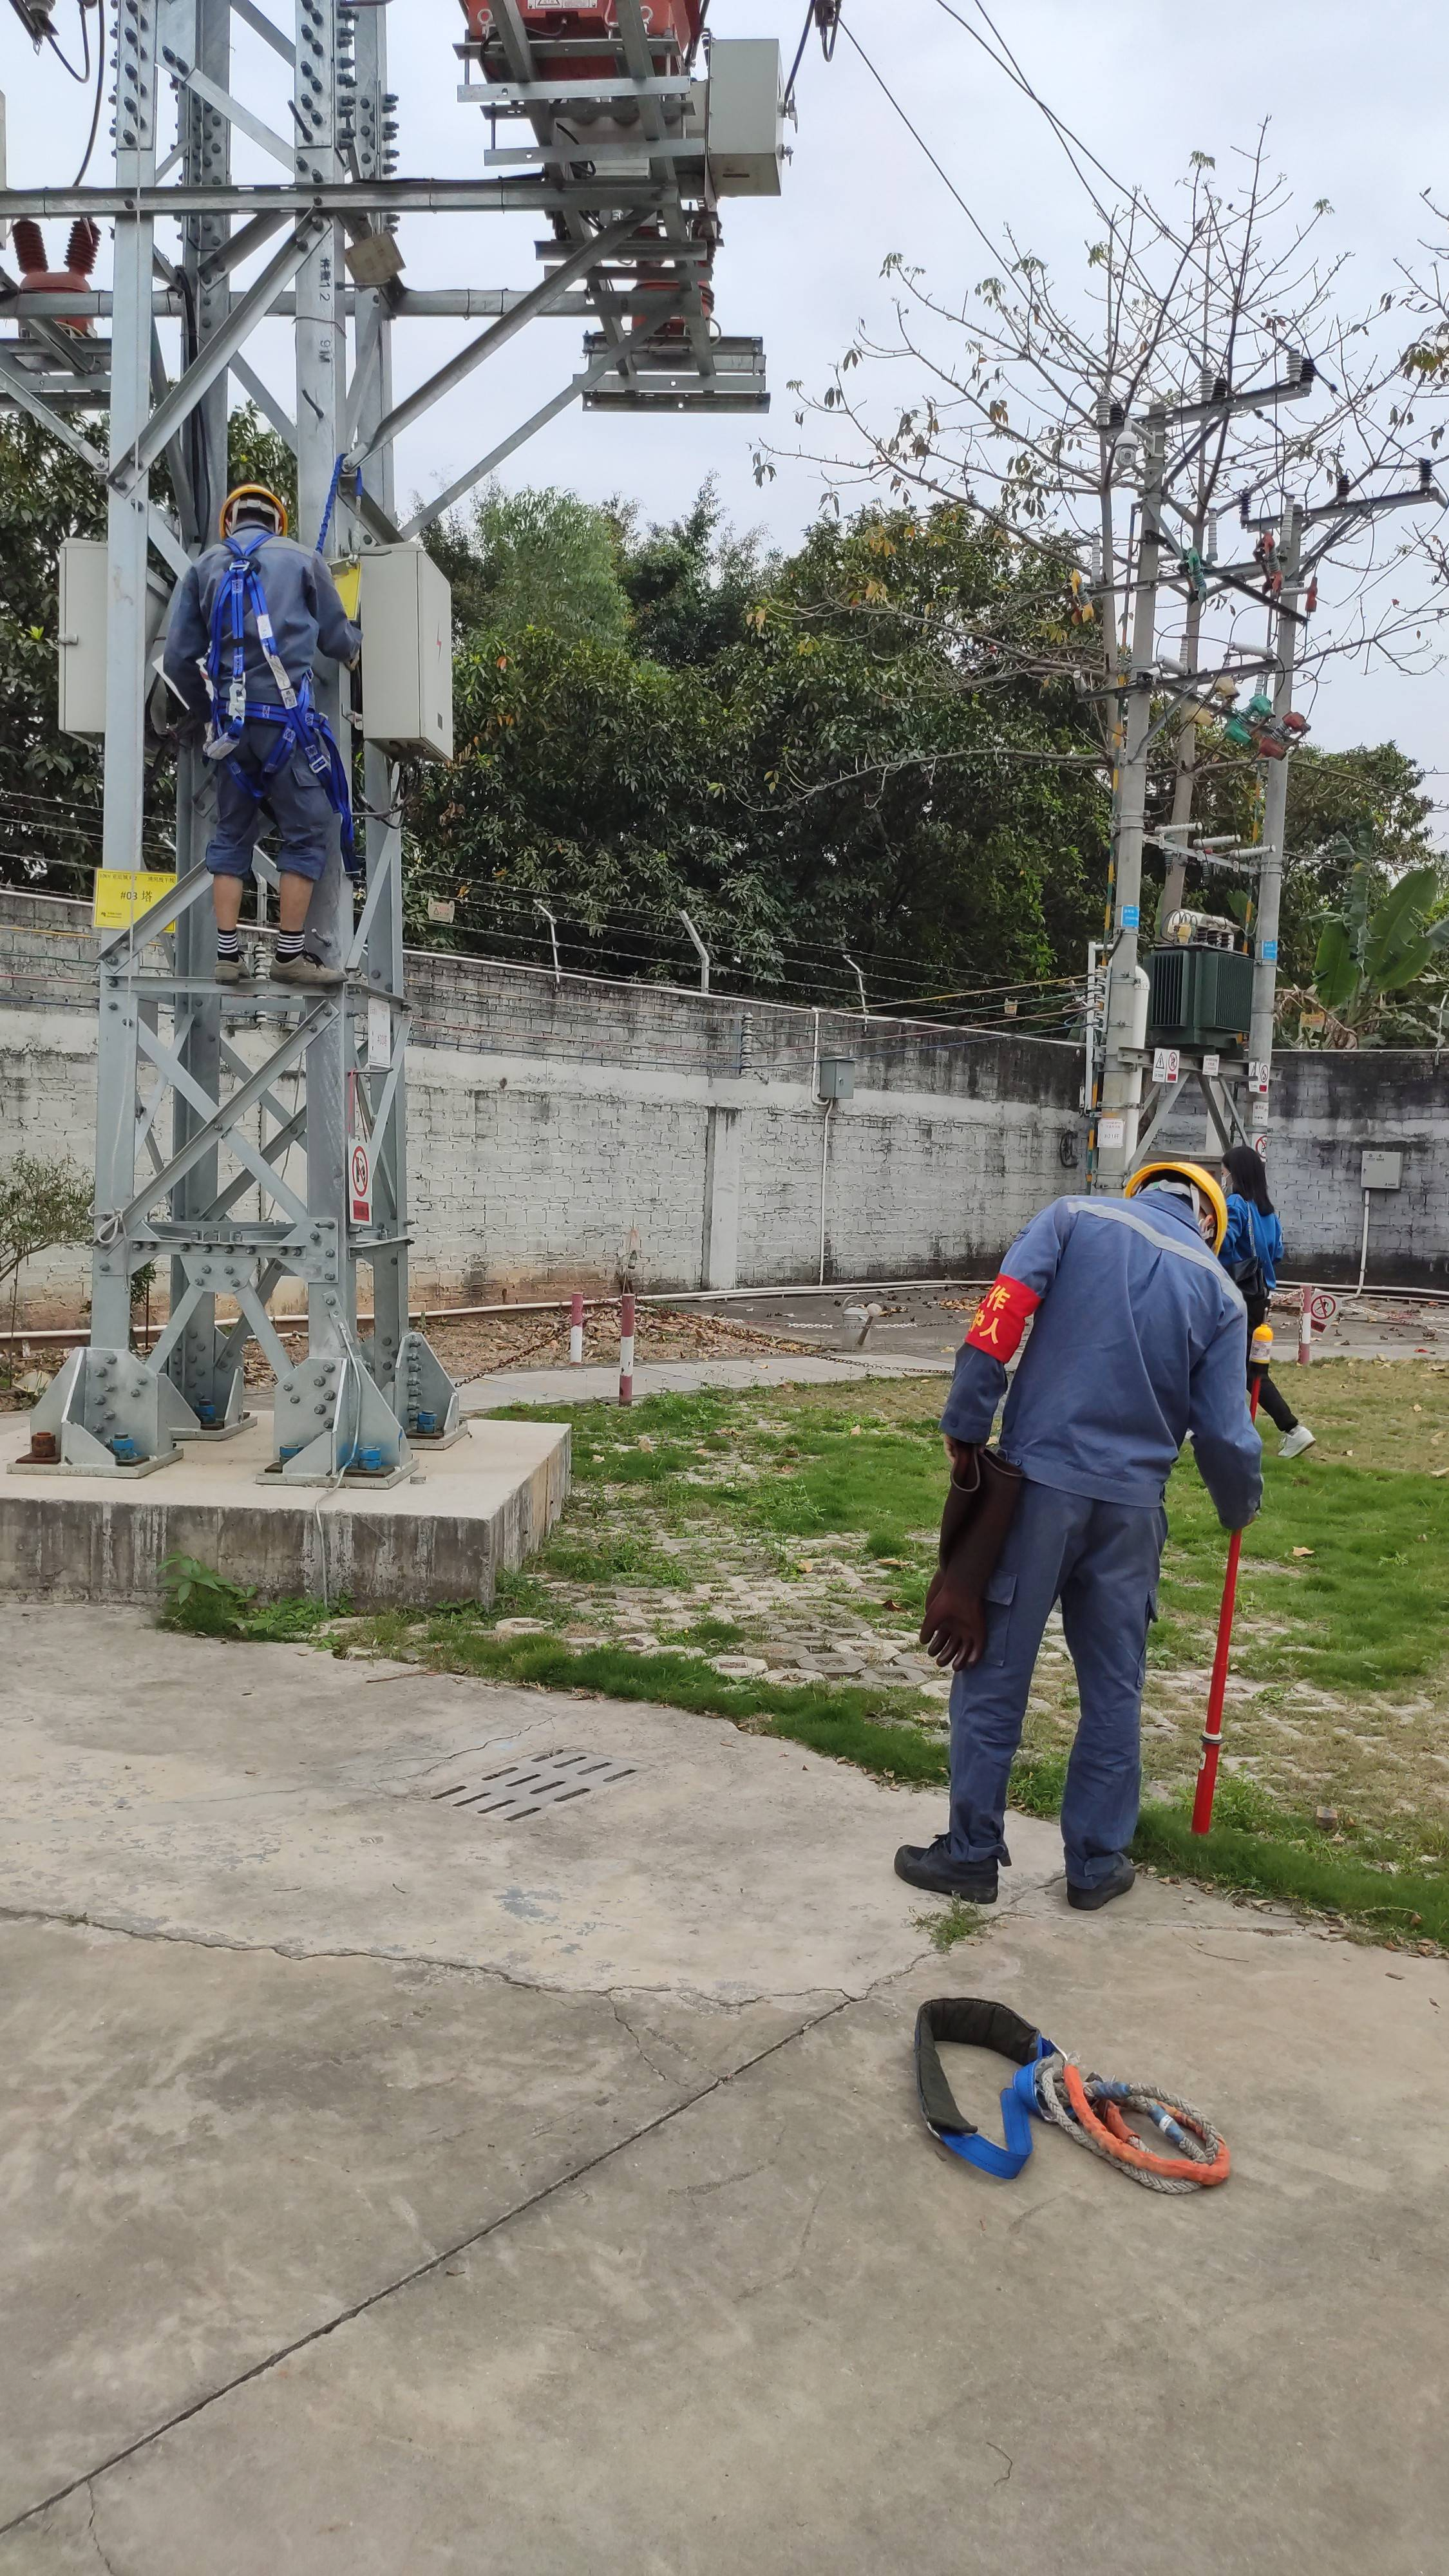downsuit: (936, 1529, 1173, 1849), (209, 720, 336, 879)
upsuit: (952, 1189, 1267, 1502), (177, 531, 349, 709)
